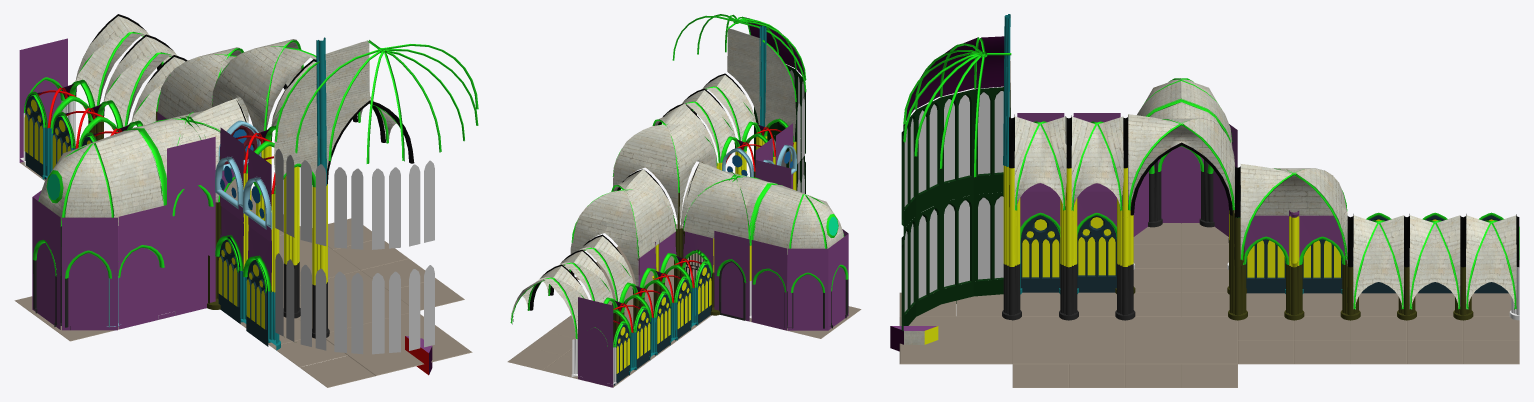
The picture shows the model from 3 angles, left to right: view 1: azimuth 30°, elevation 25°; view 2: azimuth 150°, elevation 25°; view 3: azimuth 270°, elevation 25°; orthographic projection. The views are drawn at different scales.
Parts seen in each view (by area): view 1: Box062, Object205, Object187, Plane049, Object188, Vault_floor005, Cylinder074, Object158, Object145, Object146, Object144, Object157 (+61 smaller); view 2: Object180, Object205, Plane049, Object185, Object186, Object091, Plane027, Object366, Object235, Object236, Object184, Object083 (+48 smaller); view 3: Box036, Box046, Vault_floor005, Plane035, Plane036, Plane023, Object134, Plane018, Plane021, Object131, Object133, Object132 (+81 smaller).
Part boxes in pixels (<box>): Box062: <box>96,130,163,225</box>; Object205: <box>325,40,369,168</box>; Object187: <box>62,217,117,273</box>; Plane049: <box>274,62,317,176</box>; Object188: <box>62,274,117,330</box>; Vault_floor005: <box>326,313,472,375</box>; Cylinder074: <box>295,44,478,163</box>; Object158: <box>118,261,166,329</box>; Object145: <box>167,193,215,261</box>; Object146: <box>167,136,215,204</box>; Object144: <box>167,249,215,317</box>; Object157: <box>118,205,166,272</box>; Object180: <box>753,185,802,254</box>; Object205: <box>727,28,760,124</box>; Plane049: <box>765,44,796,141</box>; Object185: <box>787,248,828,289</box>; Object186: <box>787,289,828,330</box>; Object091: <box>613,150,678,228</box>; Plane027: <box>605,190,638,286</box>; Object366: <box>683,179,733,238</box>; Object235: <box>578,297,613,346</box>; Object236: <box>578,338,613,387</box>; Object184: <box>751,281,786,330</box>; Object083: <box>570,190,622,253</box>; Box036: <box>1125,316,1237,364</box>; Box046: <box>1012,316,1125,364</box>; Vault_floor005: <box>899,316,1012,364</box>; Plane035: <box>1071,116,1123,210</box>; Plane036: <box>1014,116,1066,210</box>; Plane023: <box>1409,215,1460,308</box>; Object134: <box>940,194,973,304</box>; Plane018: <box>1353,215,1403,308</box>; Plane021: <box>1466,215,1516,308</box>; Object131: <box>940,89,973,202</box>; Object133: <box>973,192,1003,296</box>; Object132: <box>973,87,1010,194</box>.
Bounding box in the file's own units: 70 × 60.27 × 112.
